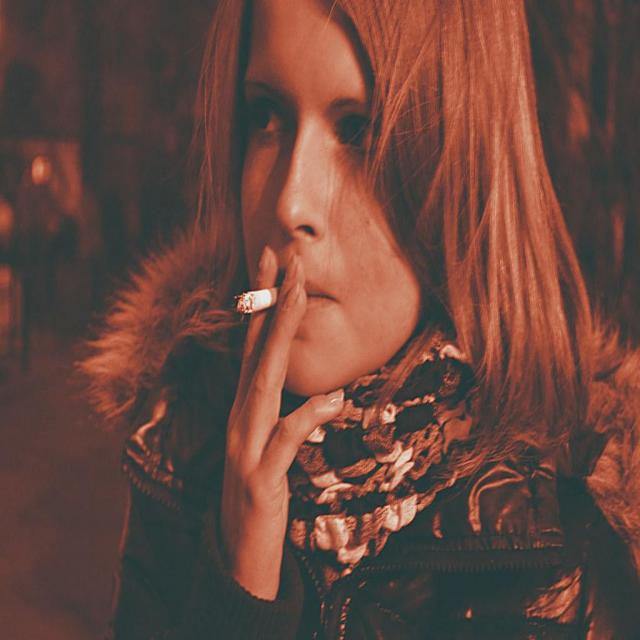Сигарета: (235, 286, 280, 319)
Тело: (150, 1, 626, 640)
